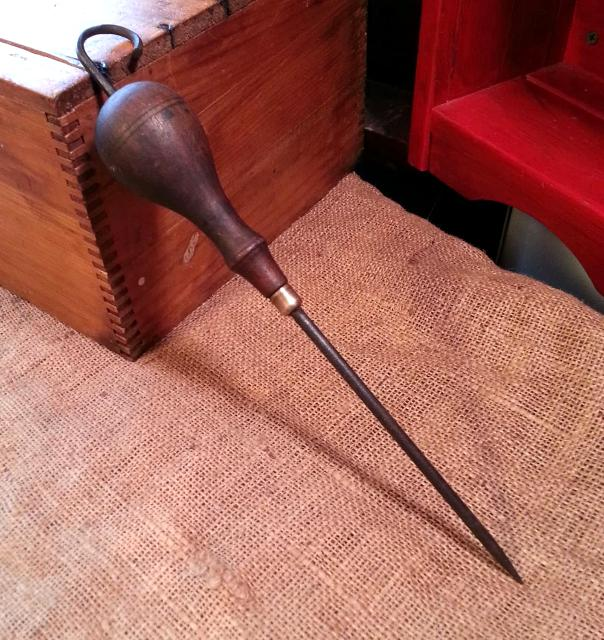ice pick: (93, 80, 525, 586)
